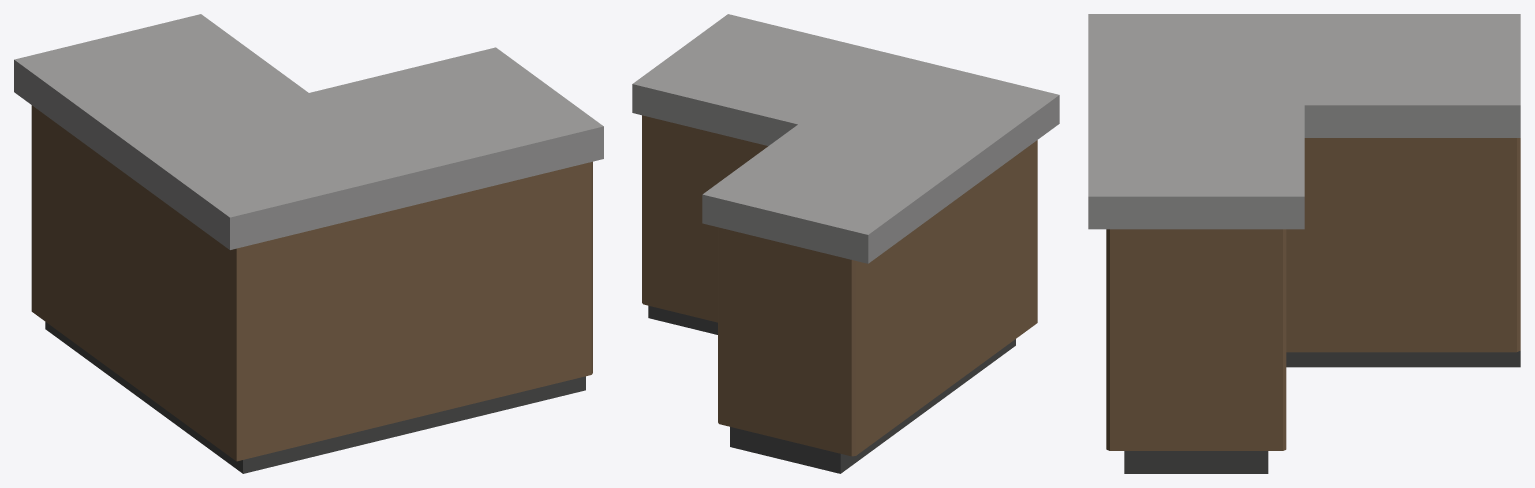
Rendered from SM_Props_Interior_Shop_Counter_Modular_02_Corner.fbx.
3 views of the same model, side by side, from view 1: azimuth 30°, elevation 25°; view 2: azimuth 150°, elevation 25°; view 3: azimuth 270°, elevation 25° (orthographic). The views are drawn at different scales.
Visible parts, largest first — view 1: SM_Props_Interior_Shop_Counter_Modular_02_Corner; view 2: SM_Props_Interior_Shop_Counter_Modular_02_Corner; view 3: SM_Props_Interior_Shop_Counter_Modular_02_Corner.
Part boxes in pixels (x1,y1,x2,y2): SM_Props_Interior_Shop_Counter_Modular_02_Corner: (14, 14, 603, 473); SM_Props_Interior_Shop_Counter_Modular_02_Corner: (632, 14, 1059, 473); SM_Props_Interior_Shop_Counter_Modular_02_Corner: (1088, 14, 1520, 473).
Size of the model in its own units: 120 by 85 by 120.
